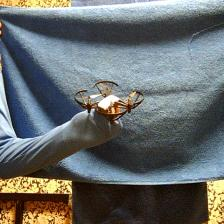drone: (74, 80, 145, 124)
